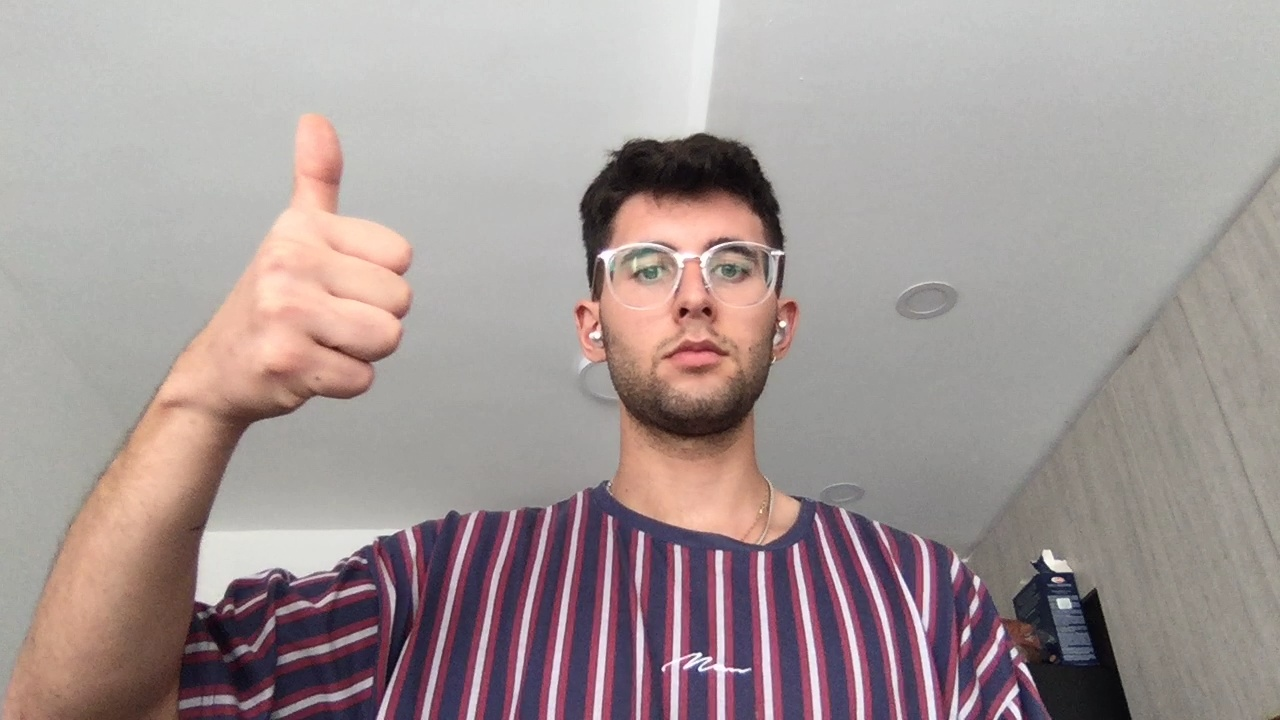good: (191, 102, 446, 424)
